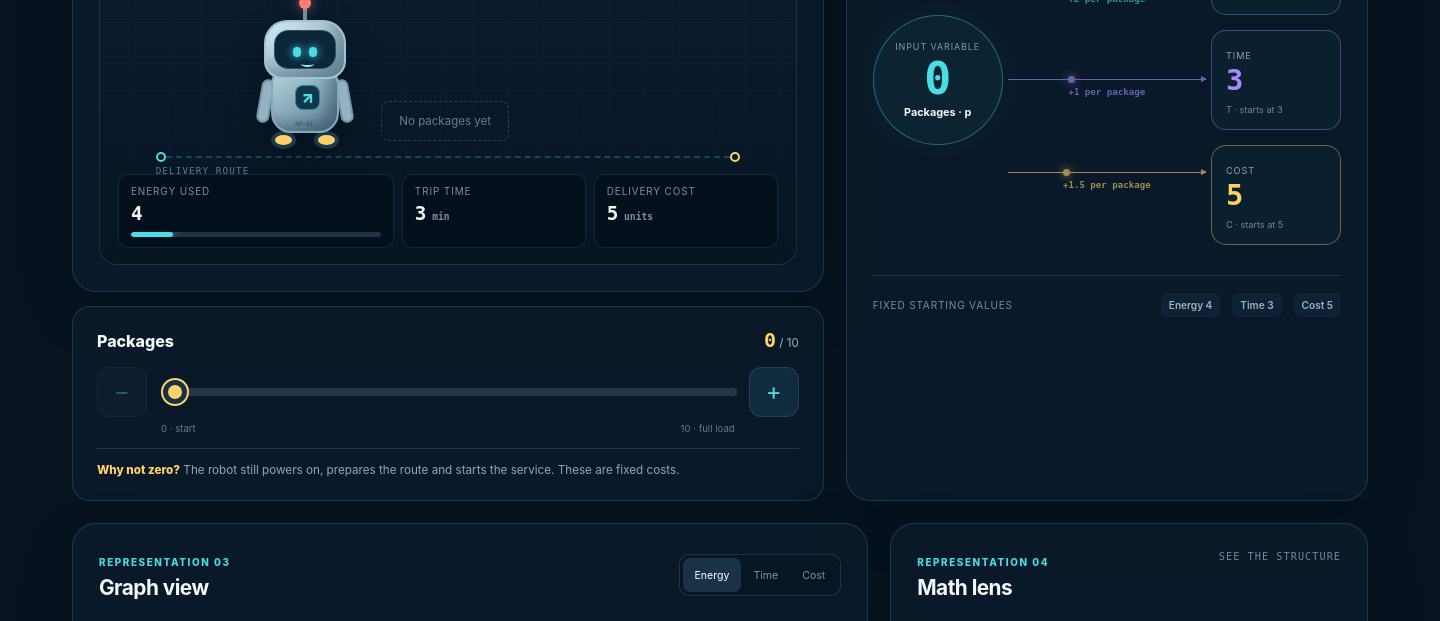
Test: Relationship Lab interactions › provides accessible package controls and updates synchronized values
(page scrolled)
Click the button named "increase packages": (774, 392) [749,367,799,417]
(page scrolled)
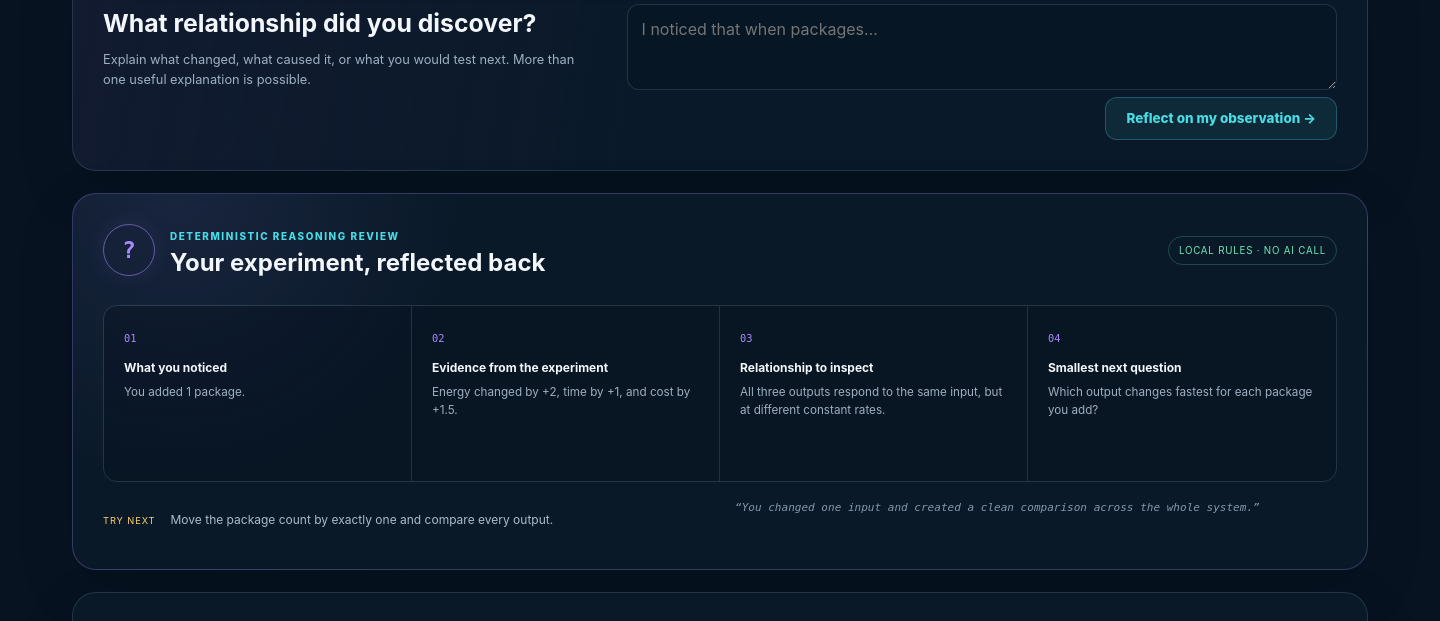
expect the text "You added 1 package." is shown: met, box [124,385,245,399]
